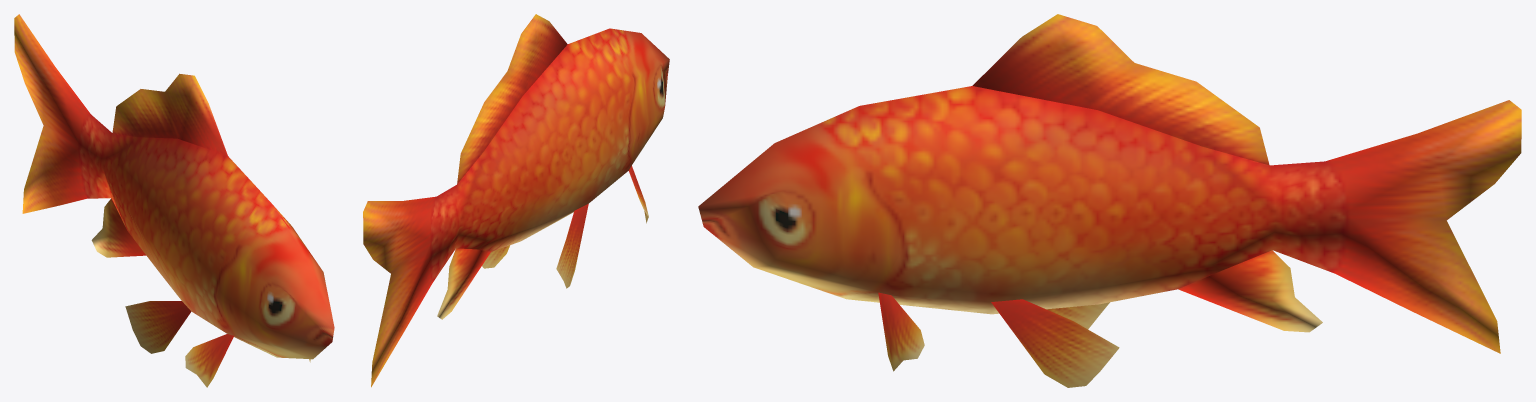
File: jsf_Goldfish_01.fbx
3 views of the same model, side by side, from view 1: azimuth 30°, elevation 25°; view 2: azimuth 150°, elevation 25°; view 3: azimuth 270°, elevation 25° (orthographic). The views are drawn at different scales.
Visible parts, largest first — view 1: jsf_Goldfish_01; view 2: jsf_Goldfish_01; view 3: jsf_Goldfish_01.
Boxes of the visible parts, x1,y1,x2,y2 form: jsf_Goldfish_01: [14, 14, 334, 387]; jsf_Goldfish_01: [363, 14, 669, 387]; jsf_Goldfish_01: [698, 14, 1521, 387].
Size of the model in its own units: 1.01 by 2.07 by 4.42.
